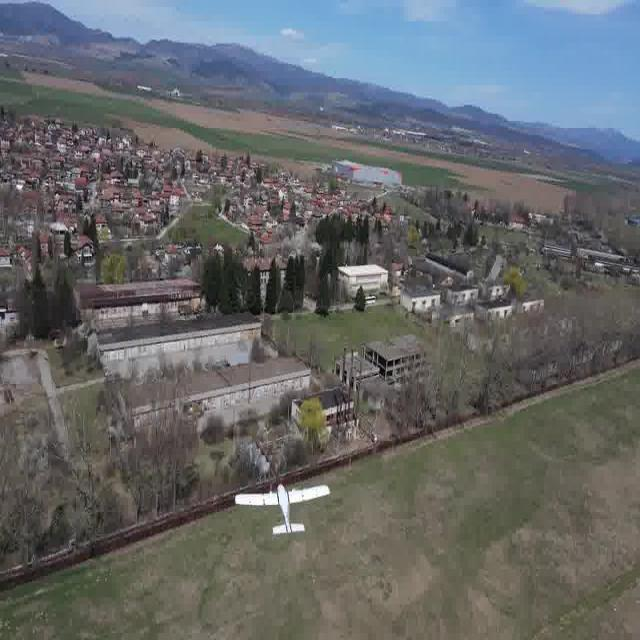iha: (264, 481, 300, 541)
